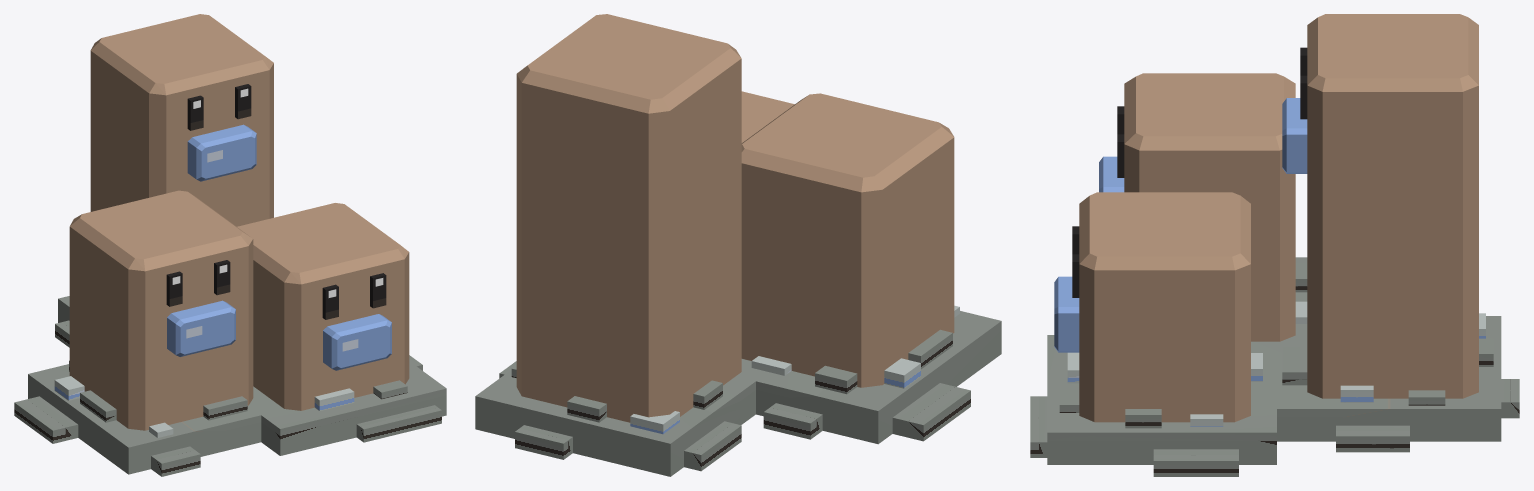
File: model_shiny.obj
3 renders of one model, left to right at view 1: azimuth 30°, elevation 25°; view 2: azimuth 150°, elevation 25°; view 3: azimuth 270°, elevation 25°, orthographic. The views are drawn at different scales.
Parts seen in each view (by area): view 1: 0051_dugtrio_shiny; view 2: 0051_dugtrio_shiny; view 3: 0051_dugtrio_shiny.
Part boxes in pixels (<box>): 0051_dugtrio_shiny: <box>14,14,446,476</box>; 0051_dugtrio_shiny: <box>475,14,1001,476</box>; 0051_dugtrio_shiny: <box>1030,14,1519,476</box>.
Size of the model in its own units: 2.34 by 1.88 by 2.4.
Materials: 1 (1 with a texture image).
